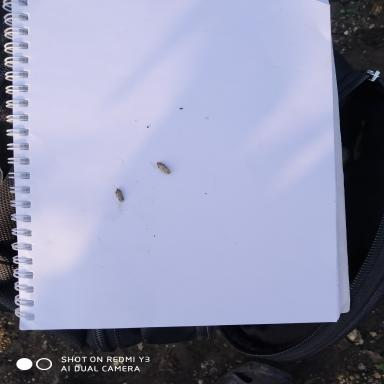pbw: (112, 188, 126, 203), (154, 162, 171, 174)
